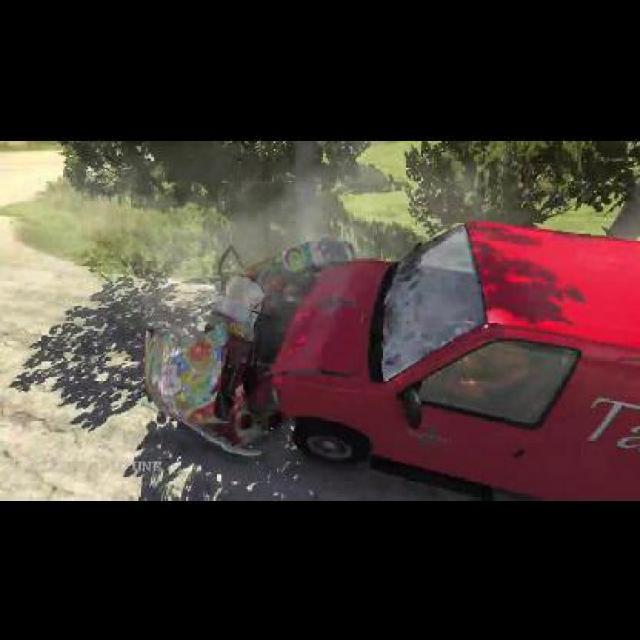accident: (133, 212, 639, 498)
